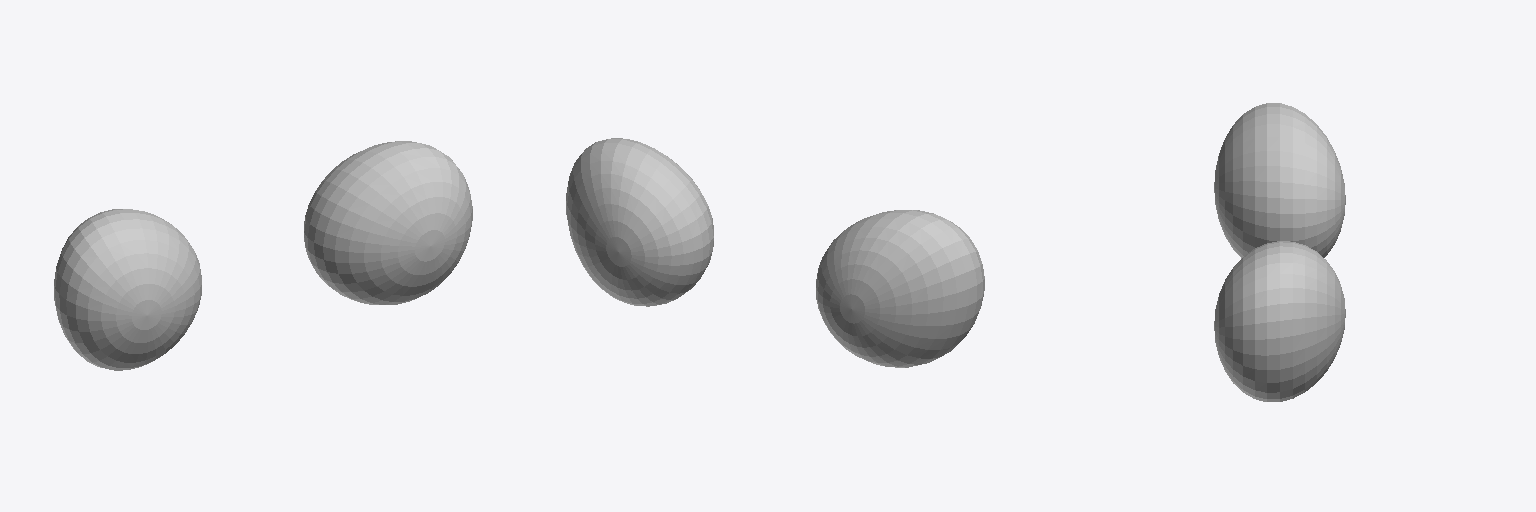
Rendered from ermak-eyes.obj.
The picture shows the model from 3 angles: view 1: azimuth 30°, elevation 25°; view 2: azimuth 150°, elevation 25°; view 3: azimuth 270°, elevation 25°; orthographic projection.
Visible parts, largest first — view 1: ермак.глаза_Сфера.002; view 2: ермак.глаза_Сфера.002; view 3: ермак.глаза_Сфера.002.
Part boxes in pixels (left/top/right/bottom): ермак.глаза_Сфера.002: left=54, top=141, right=472, bottom=370; ермак.глаза_Сфера.002: left=566, top=138, right=984, bottom=367; ермак.глаза_Сфера.002: left=1214, top=103, right=1345, bottom=401.
Bounding box in the file's own units: 0.4709 × 0.1685 × 0.1323.